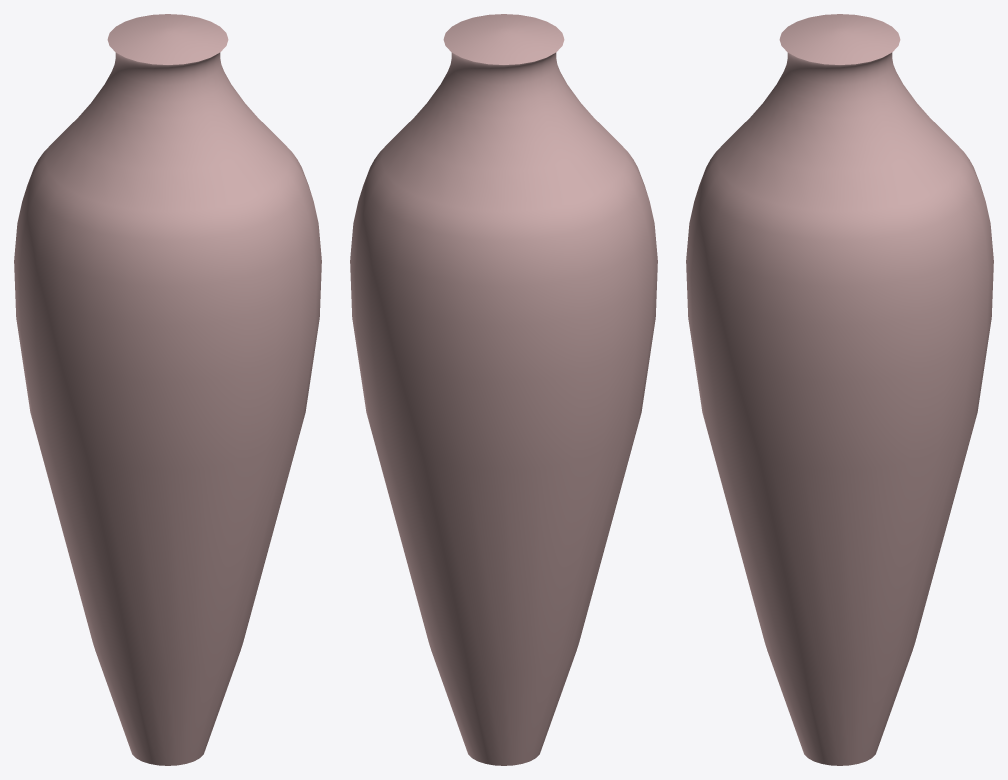
Rendered from vase.fbx.
3 renders of one model, left to right at view 1: azimuth 30°, elevation 25°; view 2: azimuth 150°, elevation 25°; view 3: azimuth 270°, elevation 25°, orthographic.
Visible parts, largest first — view 1: Lathe_1; view 2: Lathe_1; view 3: Lathe_1.
Part boxes in pixels (<box>): Lathe_1: <box>14,14,321,765</box>; Lathe_1: <box>350,14,657,765</box>; Lathe_1: <box>686,14,993,765</box>.
Size of the model in its own units: 179 by 465 by 179.
